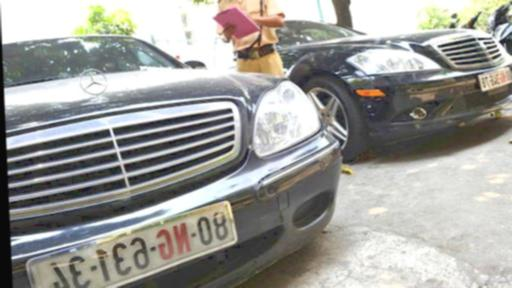License_Plate: (18, 196, 245, 287), (477, 67, 512, 91)
